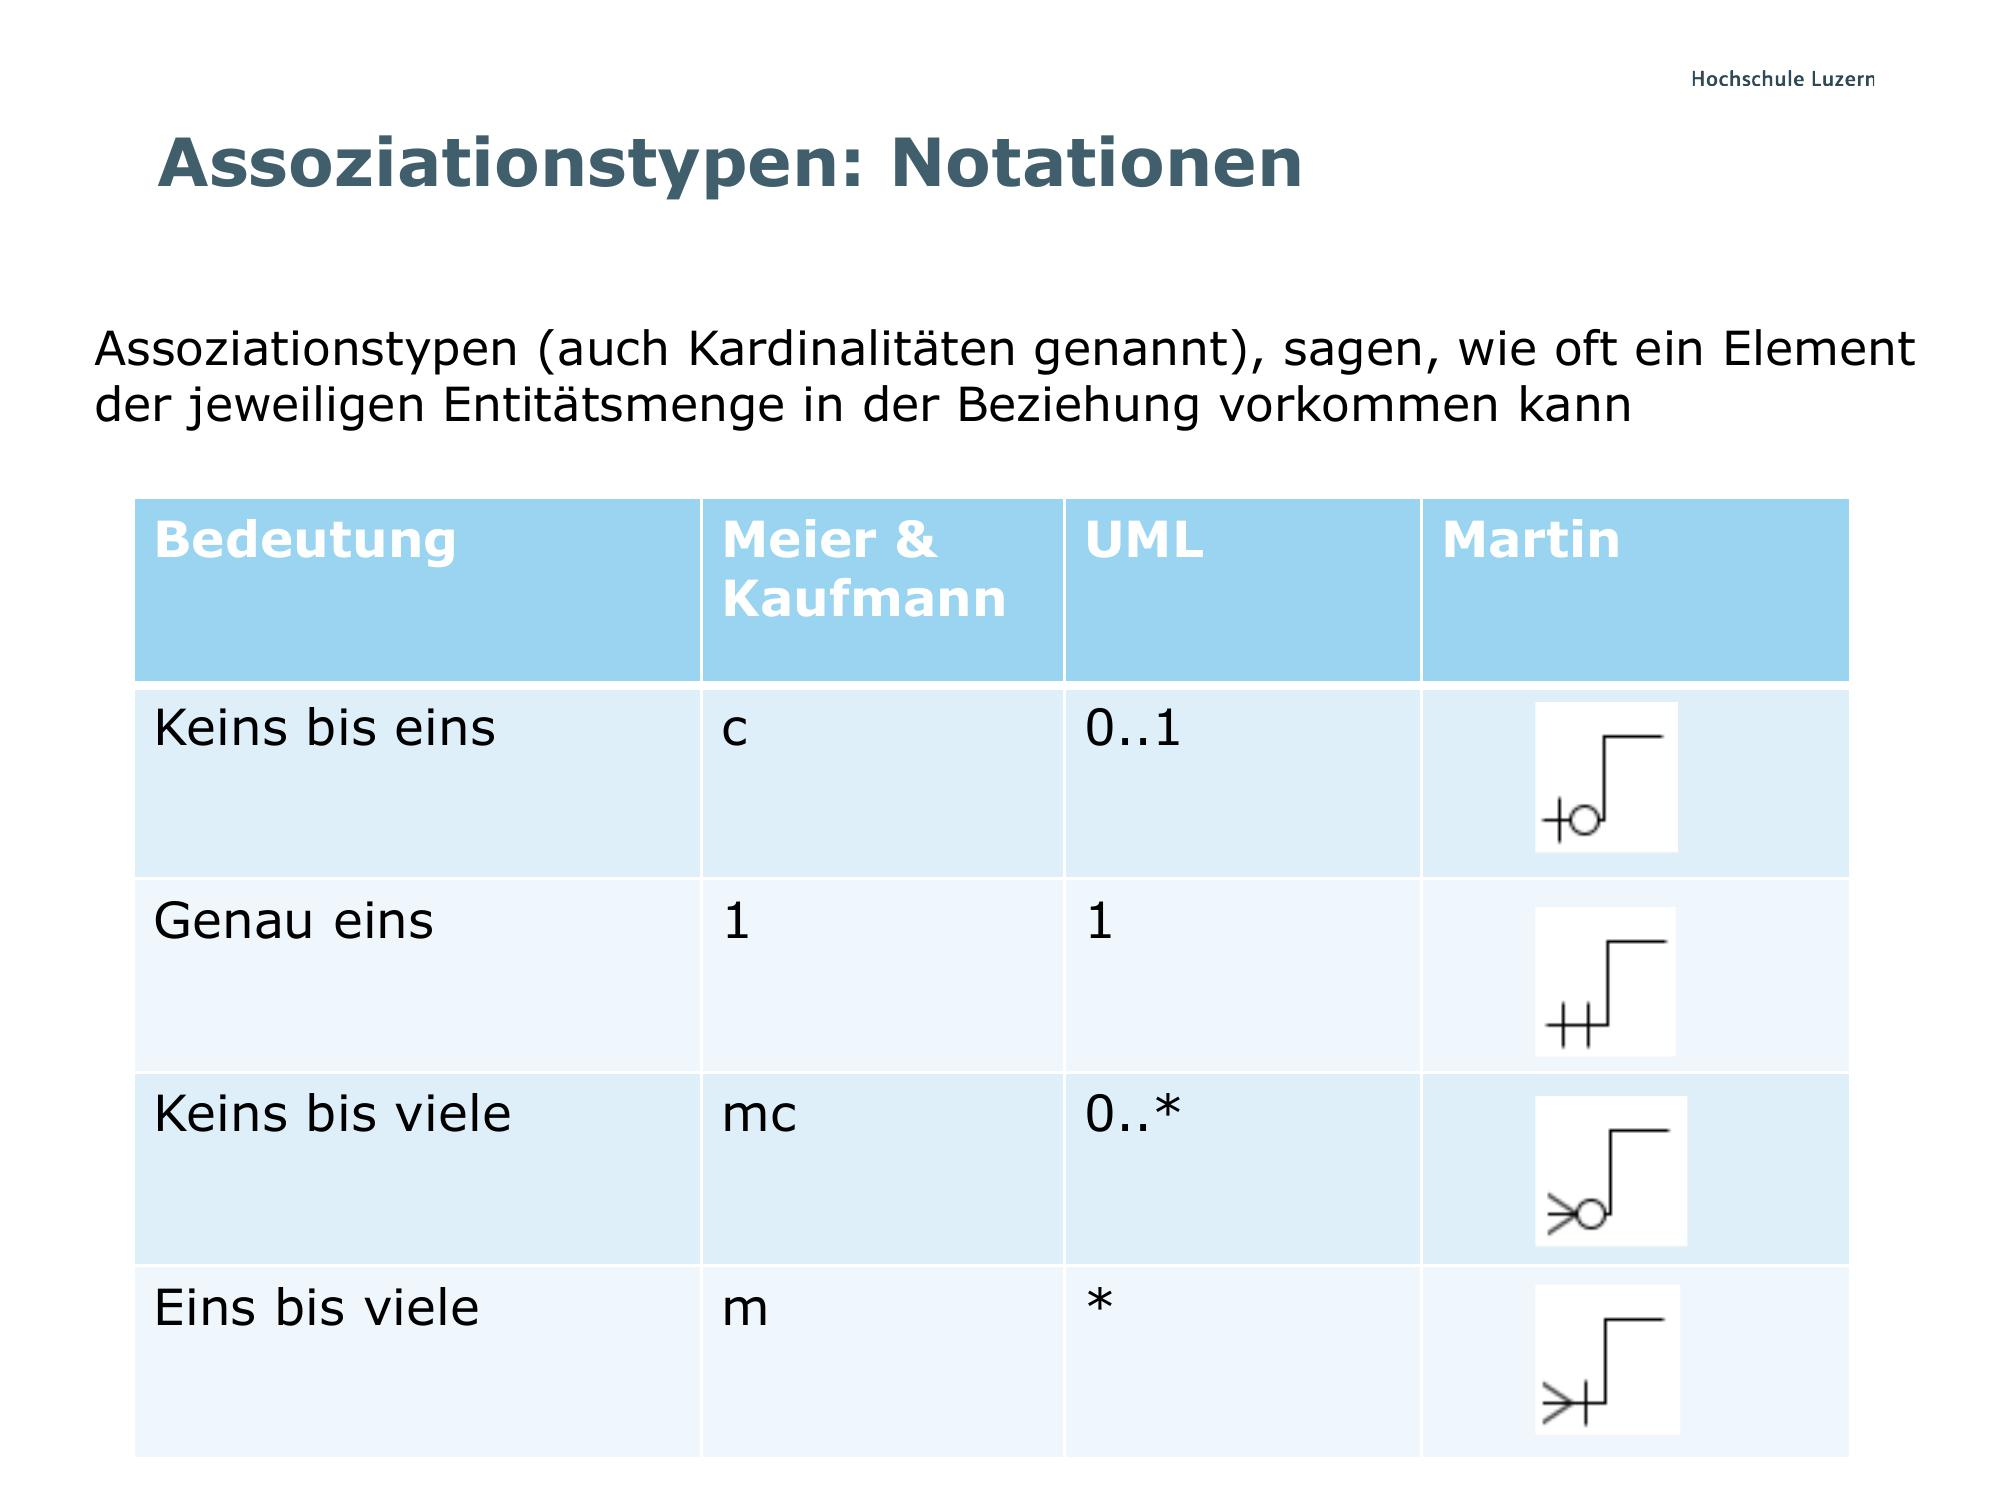Title: (142, 113, 1313, 210)
